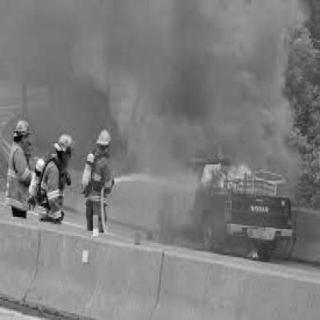Fire: (200, 142, 258, 194)
Smoke: (106, 14, 300, 142)
